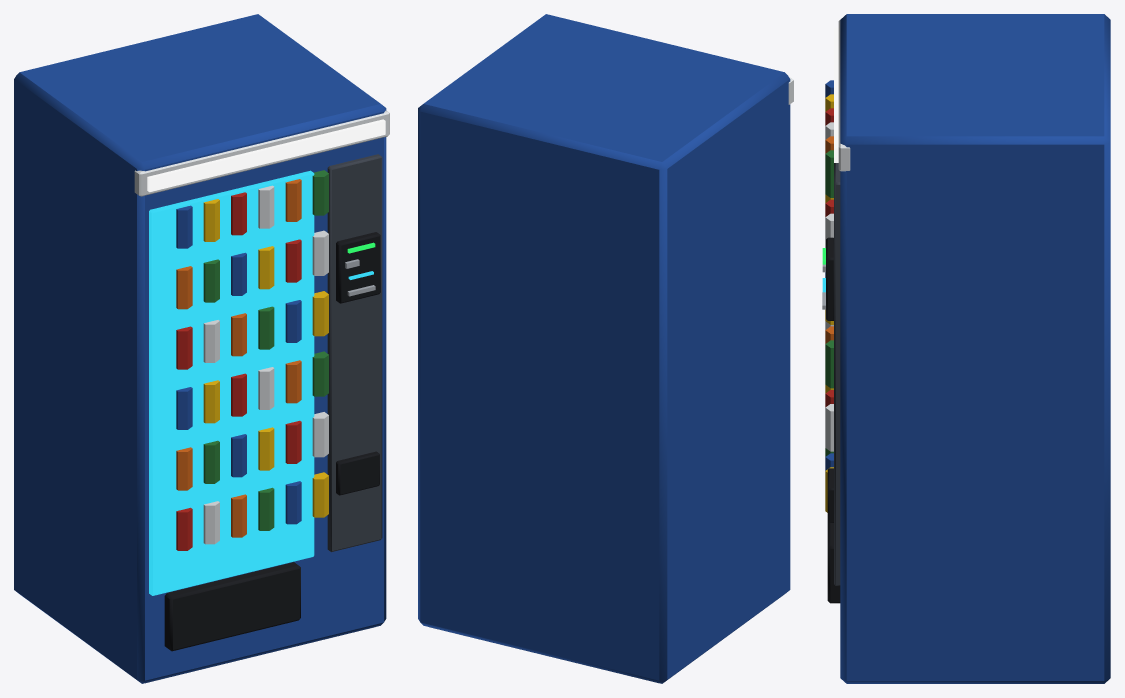
Rendered from vending_drink_machine.glb.
3 renders of one model, left to right at view 1: azimuth 30°, elevation 25°; view 2: azimuth 150°, elevation 25°; view 3: azimuth 270°, elevation 25°, orthographic. The views are drawn at different scales.
Parts seen in each view (by area): view 1: vending_drink_machine; view 2: vending_drink_machine; view 3: vending_drink_machine.
Boxes of the visible parts, x1,y1,x2,y2 form: vending_drink_machine: (14,14,389,683); vending_drink_machine: (418,14,793,683); vending_drink_machine: (822,14,1110,683).
Size of the model in its own units: 0.956 by 1.9 by 0.907.
